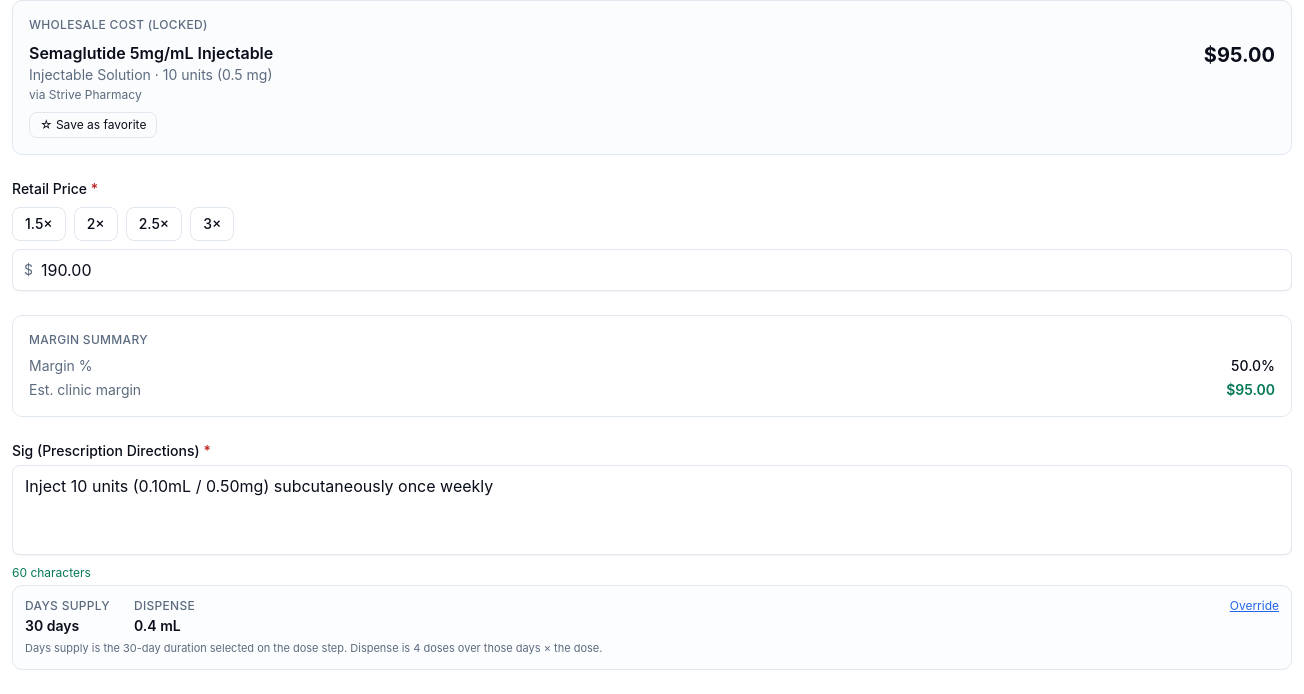
Test: margin page — WO-103 › ☆ Save as favorite posts the configured dose as a structured preset
Click the button "☆ Save as favorite": (93, 125) [29, 112, 157, 138]
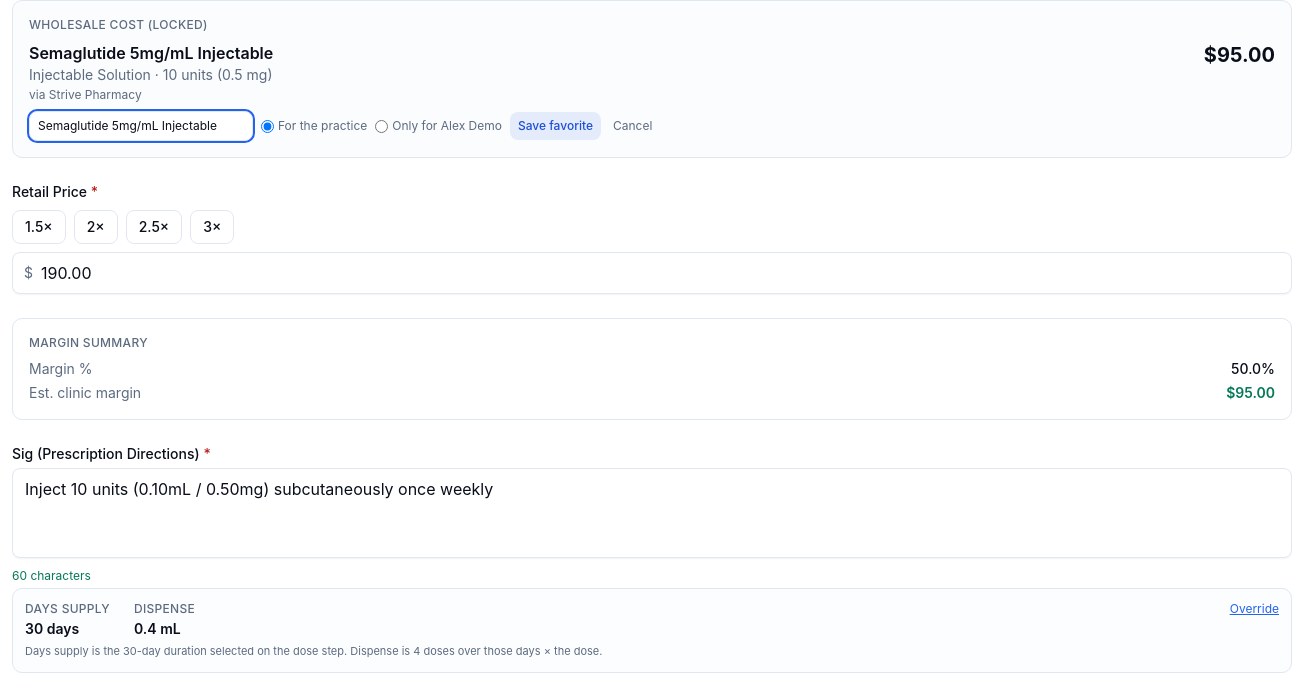
Check: the field named "Favorite name" holds "Semaglutide 5mg/mL Injectable"
Press Enter in the field named "Favorite name", box [29, 111, 253, 141]
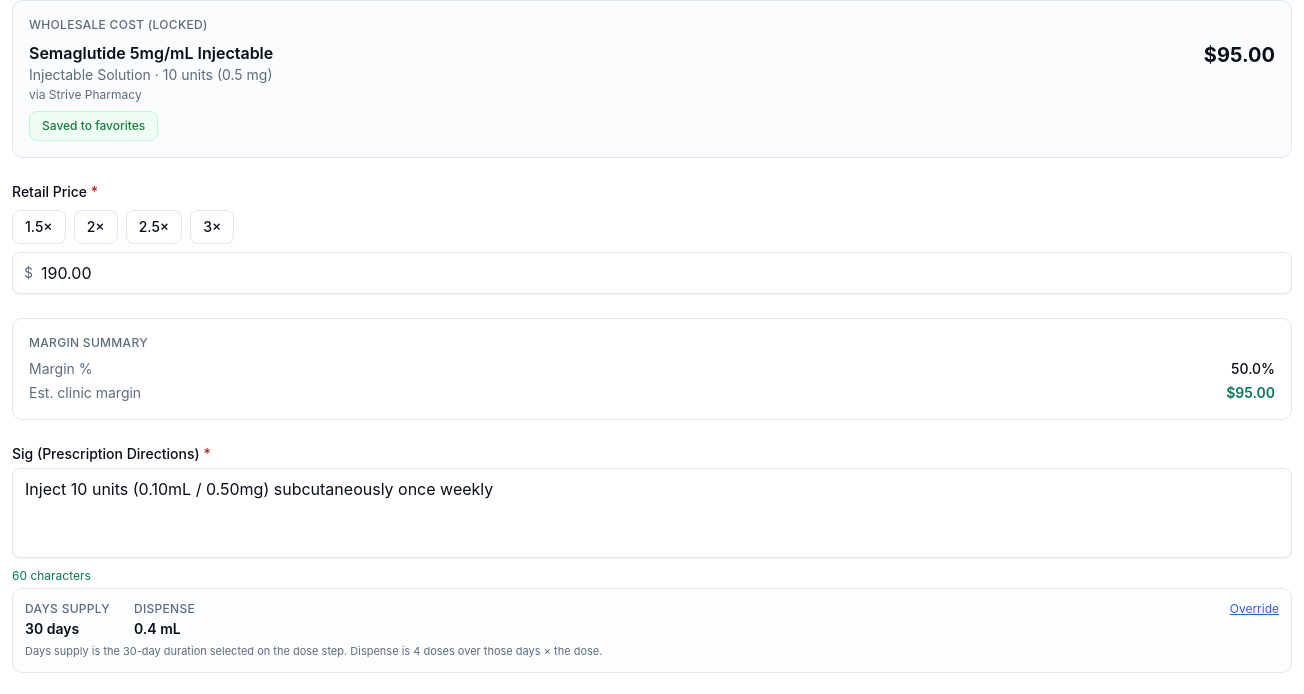
Check: the message reads "Saved to favorites", box [42, 118, 145, 133]
